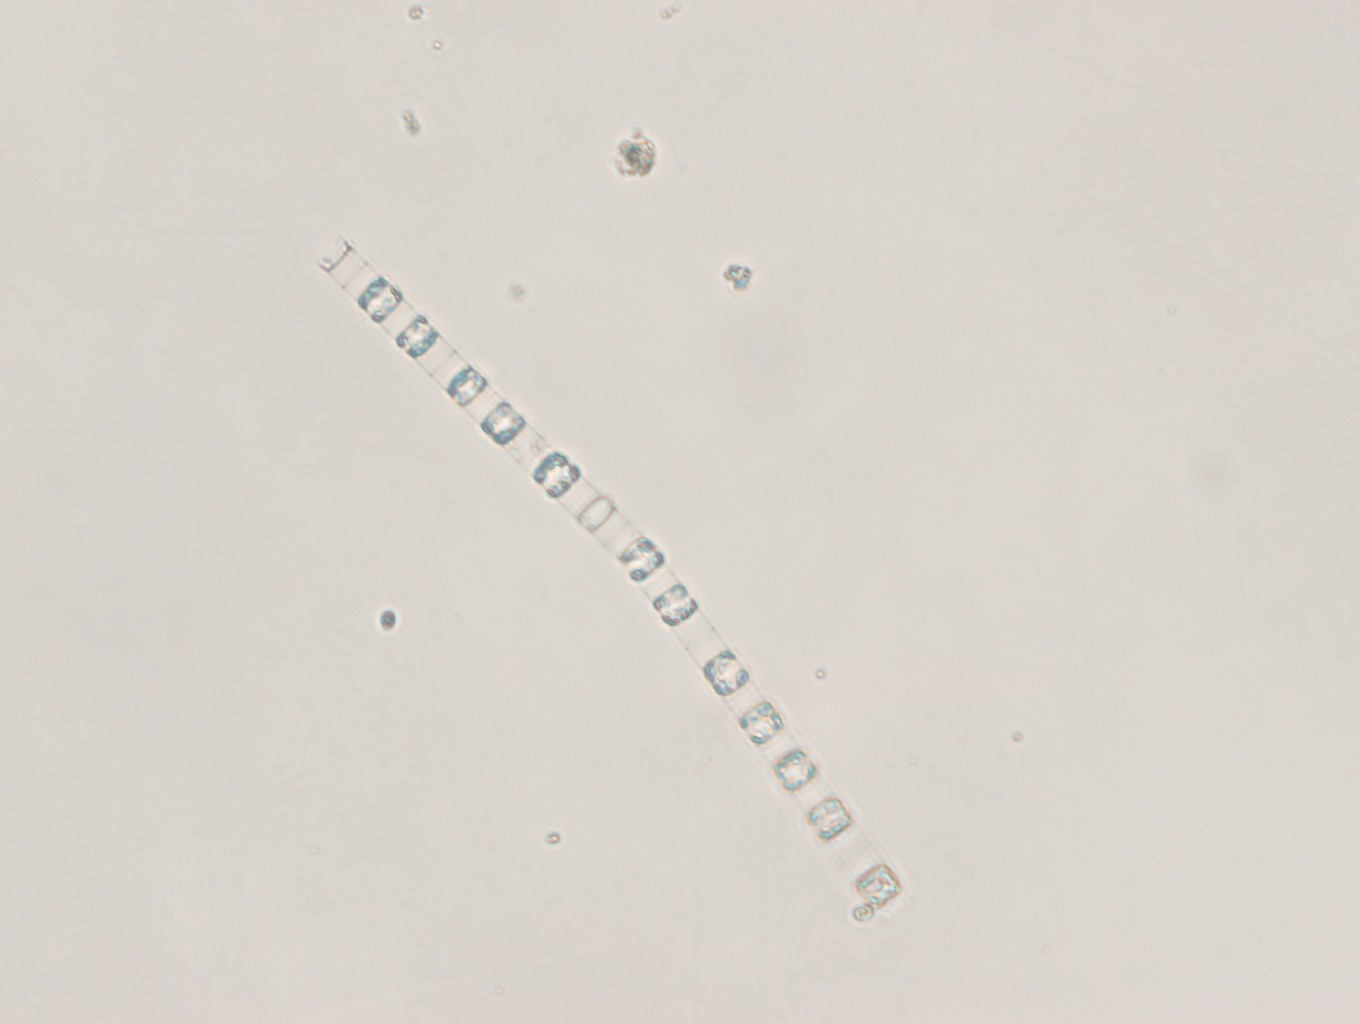skeletonema: (294, 207, 933, 945)
